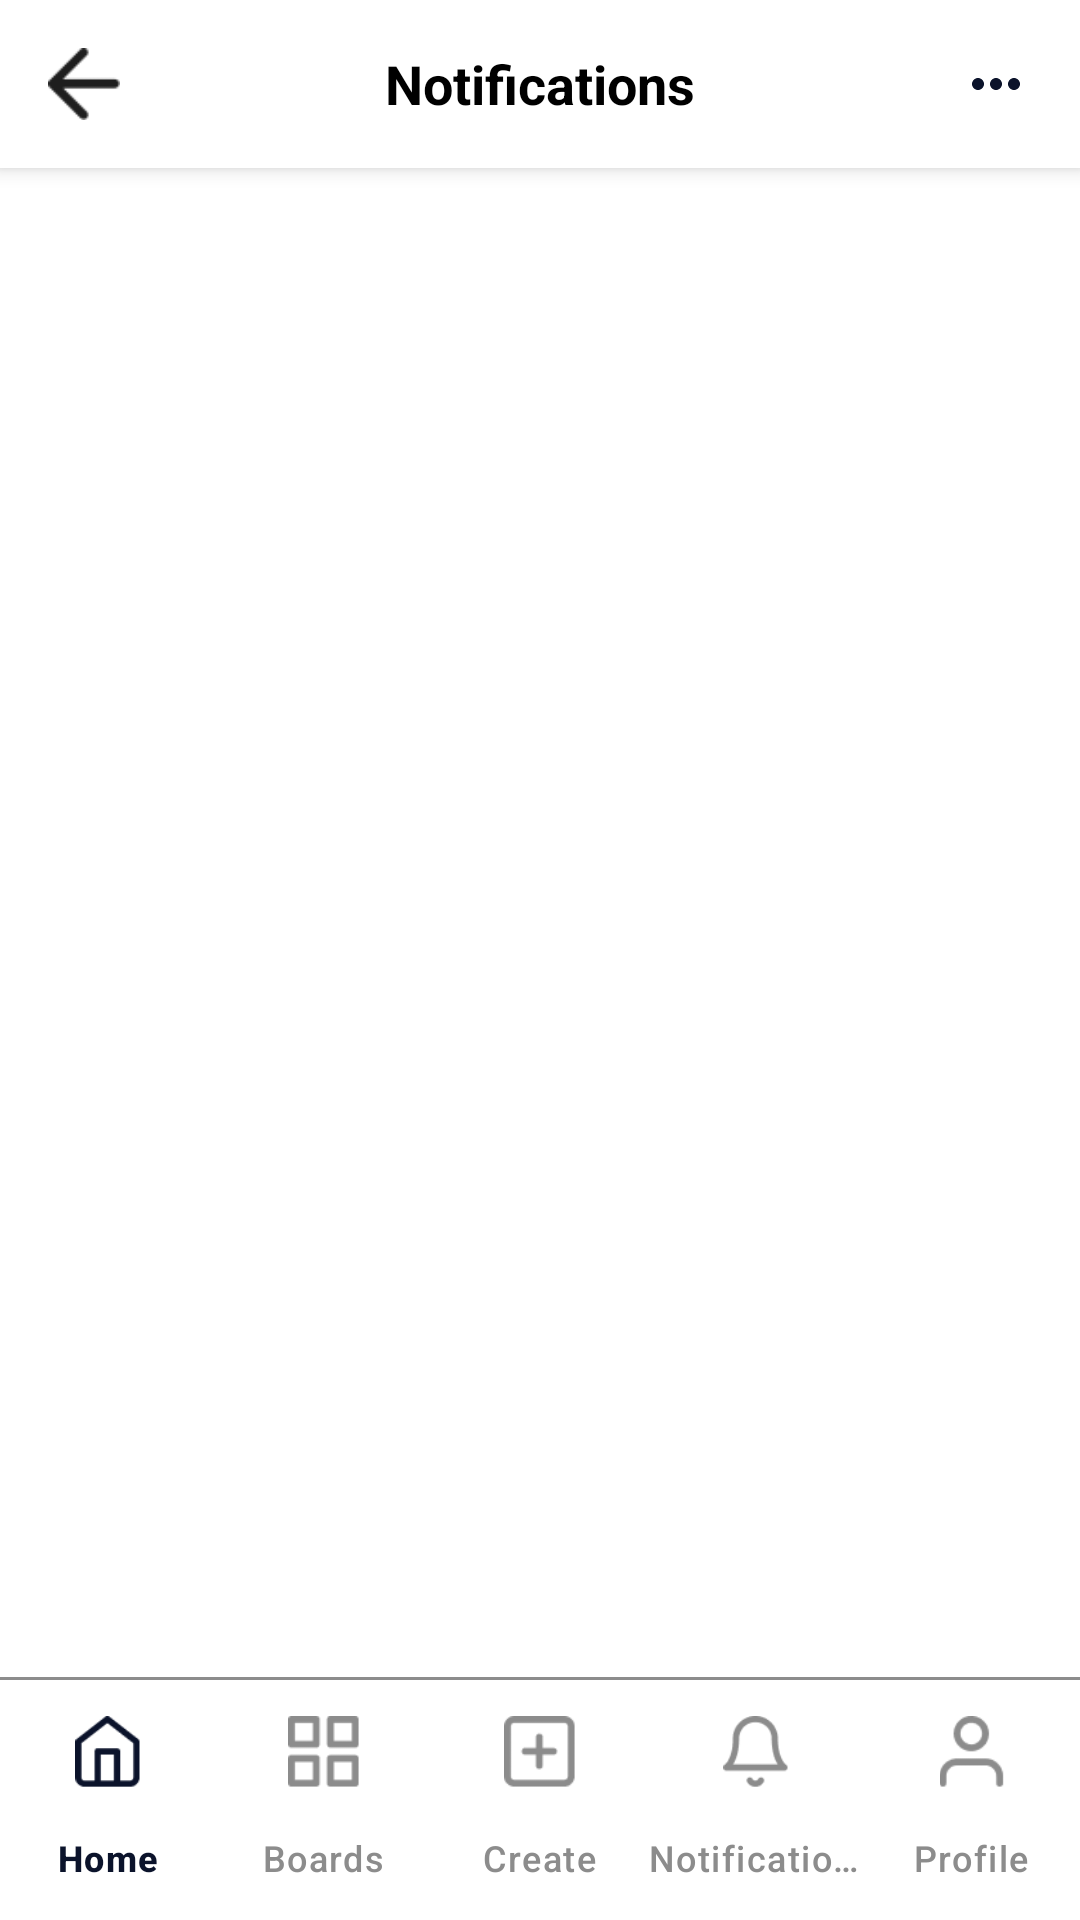

Icons on this 1080x1920 Android screen, each with the point to tap as (x=x, y=y):
Back: (x=84, y=84)
More options: (x=996, y=84)
